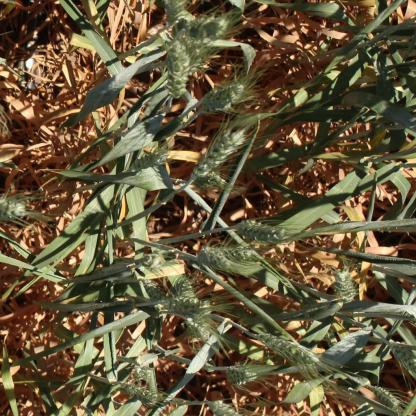whd: (190, 126, 248, 180), (260, 333, 320, 366), (164, 40, 192, 97), (235, 219, 290, 244), (184, 13, 231, 42), (201, 77, 243, 105), (178, 36, 206, 76), (122, 380, 168, 404), (130, 148, 168, 173), (163, 297, 212, 316), (388, 342, 416, 375), (199, 93, 243, 113), (180, 313, 210, 342), (334, 267, 358, 303), (0, 194, 29, 222), (368, 385, 400, 410), (226, 363, 258, 386), (140, 249, 168, 275), (197, 246, 230, 268), (214, 244, 251, 262), (162, 0, 186, 26), (142, 278, 168, 301), (208, 400, 243, 416), (170, 275, 194, 298), (192, 171, 222, 189), (134, 366, 152, 382)
